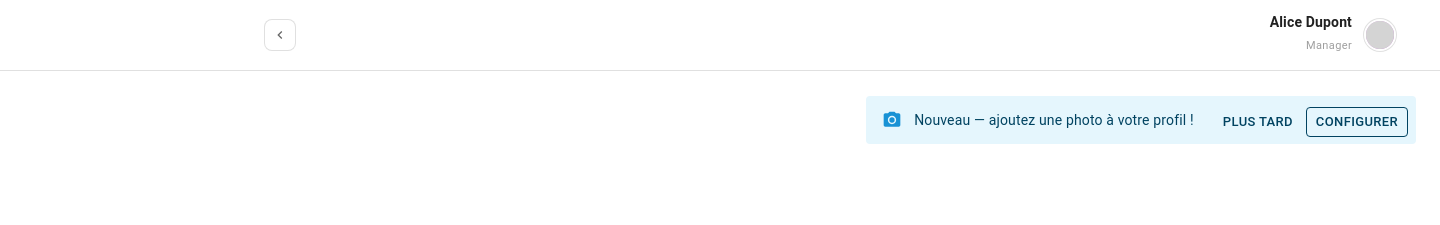
it: Topbar — account menu › ouvre le menu au clic sur l'avatar/nom
Click the button with aria-label "Mon compte": (1286, 22) 1262,10 -> 1404,60
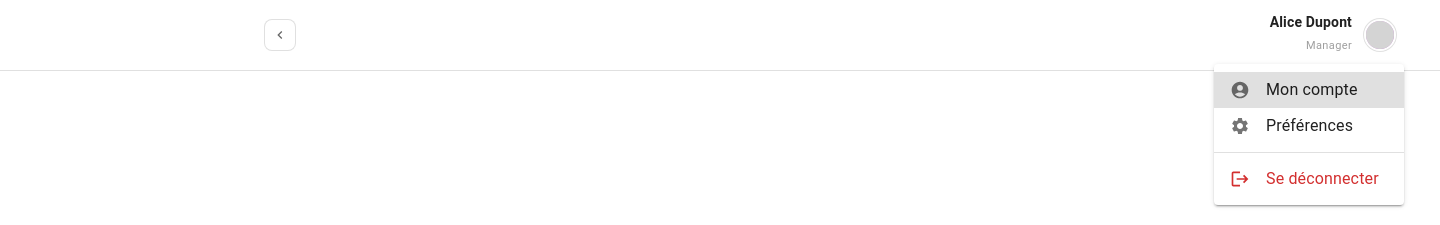
Check: the text "Mon compte" is shown, box 1266,80 -> 1358,99
Check: the text "Préférences" is shown, box 1266,116 -> 1353,135
Check: the text "Se déconnecter" is shown, box 1266,167 -> 1388,191
